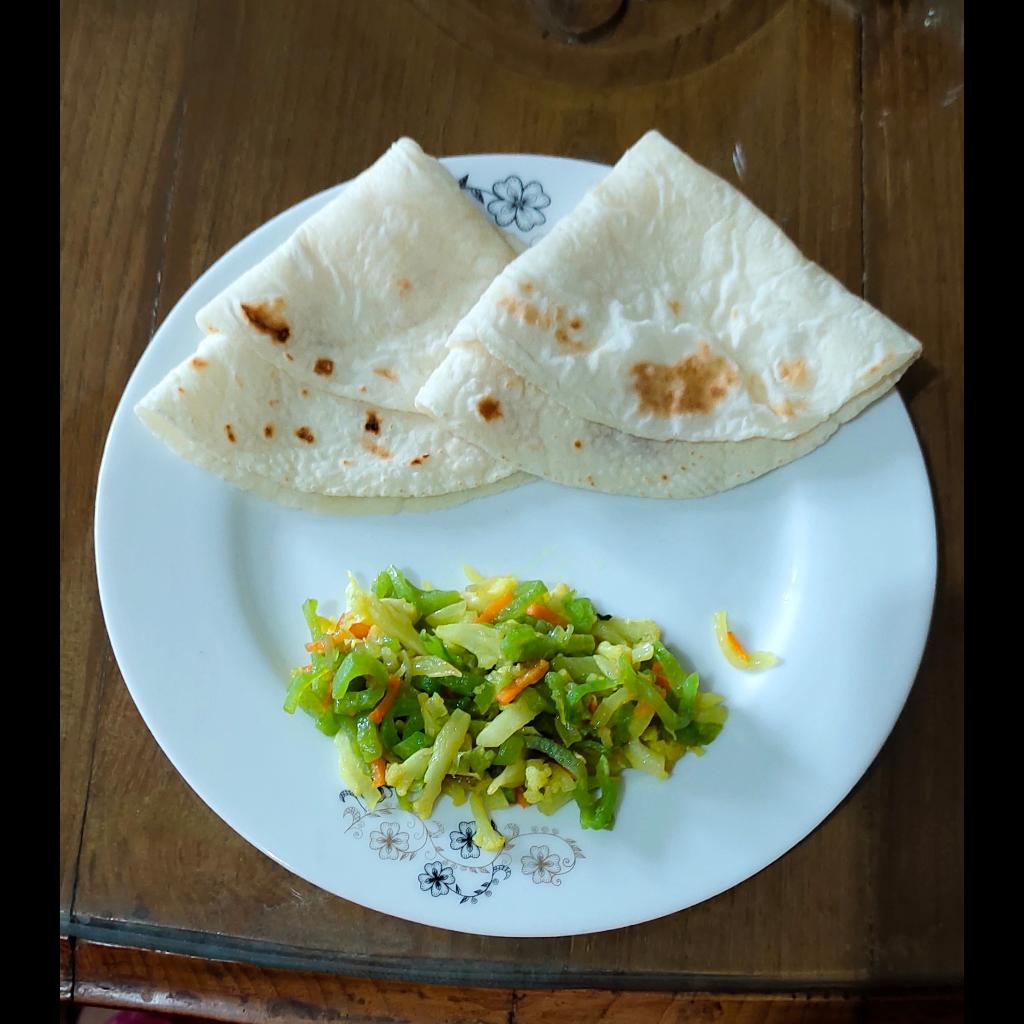chichinga-vaji: (284, 557, 734, 850)
ruti: (133, 125, 928, 515)
